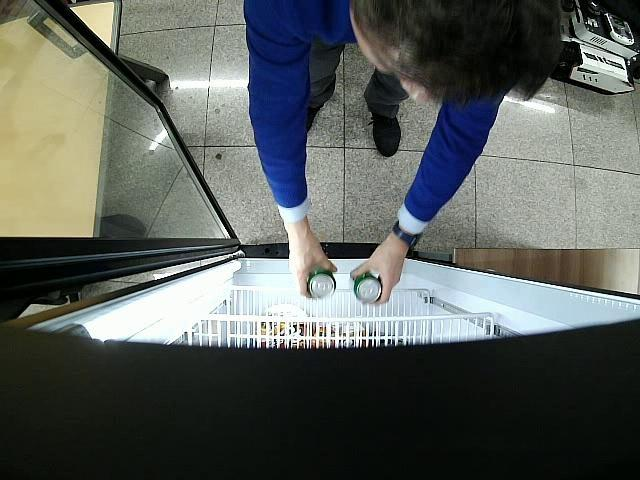12_chilsungCider: (308, 266, 336, 301), (354, 273, 382, 304)
